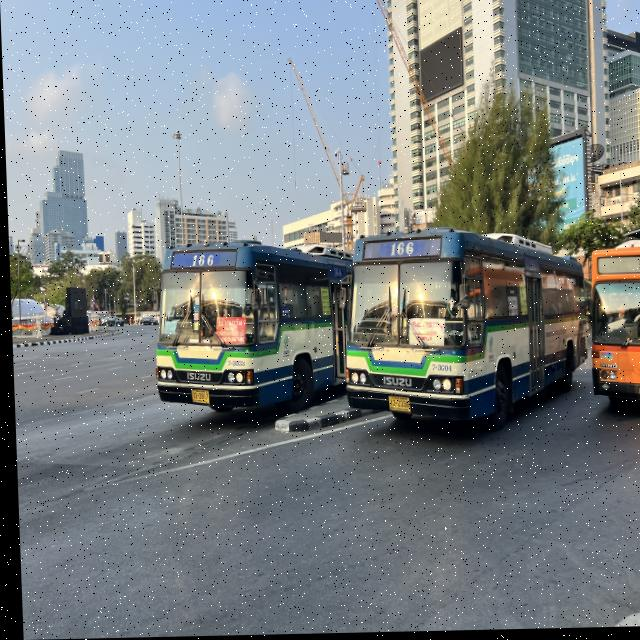BMTA-bus: (344, 230, 585, 435), (152, 243, 348, 416), (583, 238, 640, 421)
Bus Line Number: (384, 237, 416, 260), (186, 251, 216, 272), (635, 258, 640, 275)
Bus Side Number: (428, 363, 452, 377), (222, 356, 244, 370)
Destination Sign: (406, 319, 444, 352), (210, 315, 243, 348)
